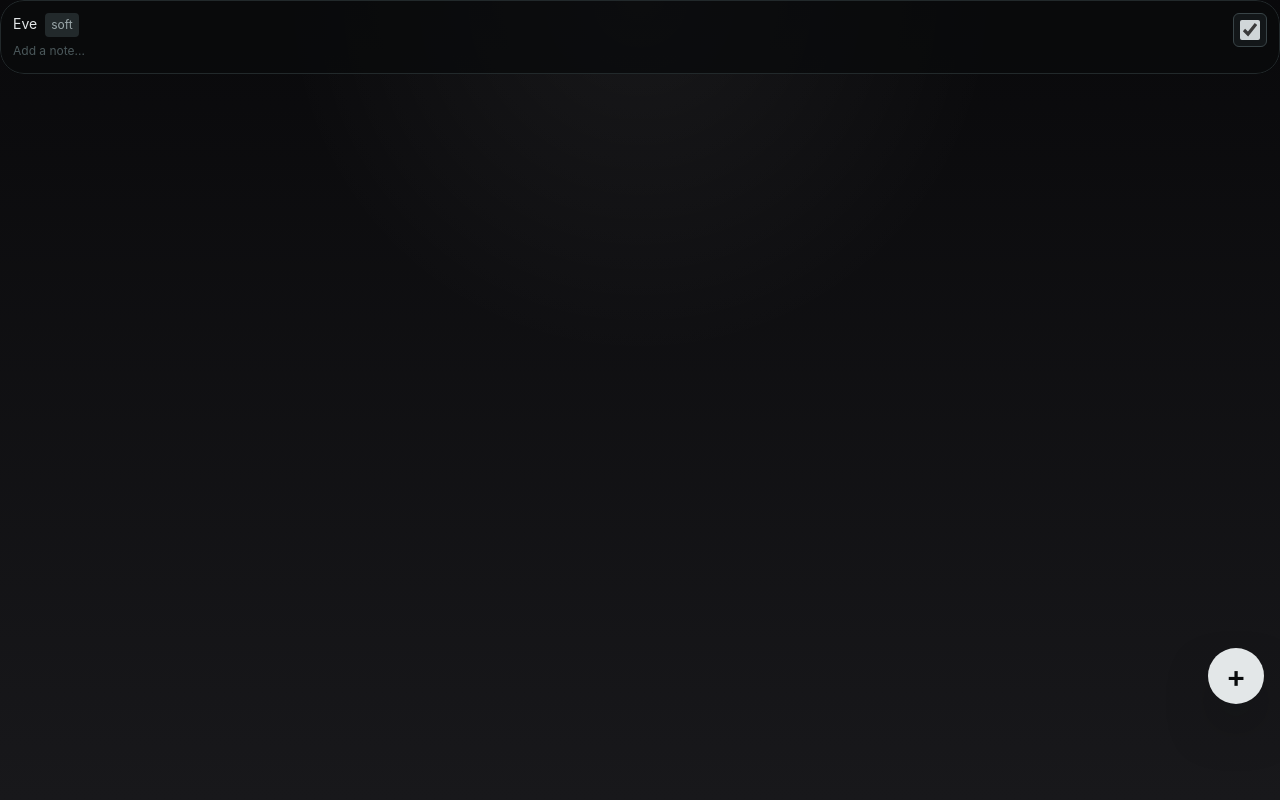
Test: TransactionsTab › clears invalid draft on escape
The image size is (1280, 800).
Click the button "Eve": (25, 24) [13,15,37,32]
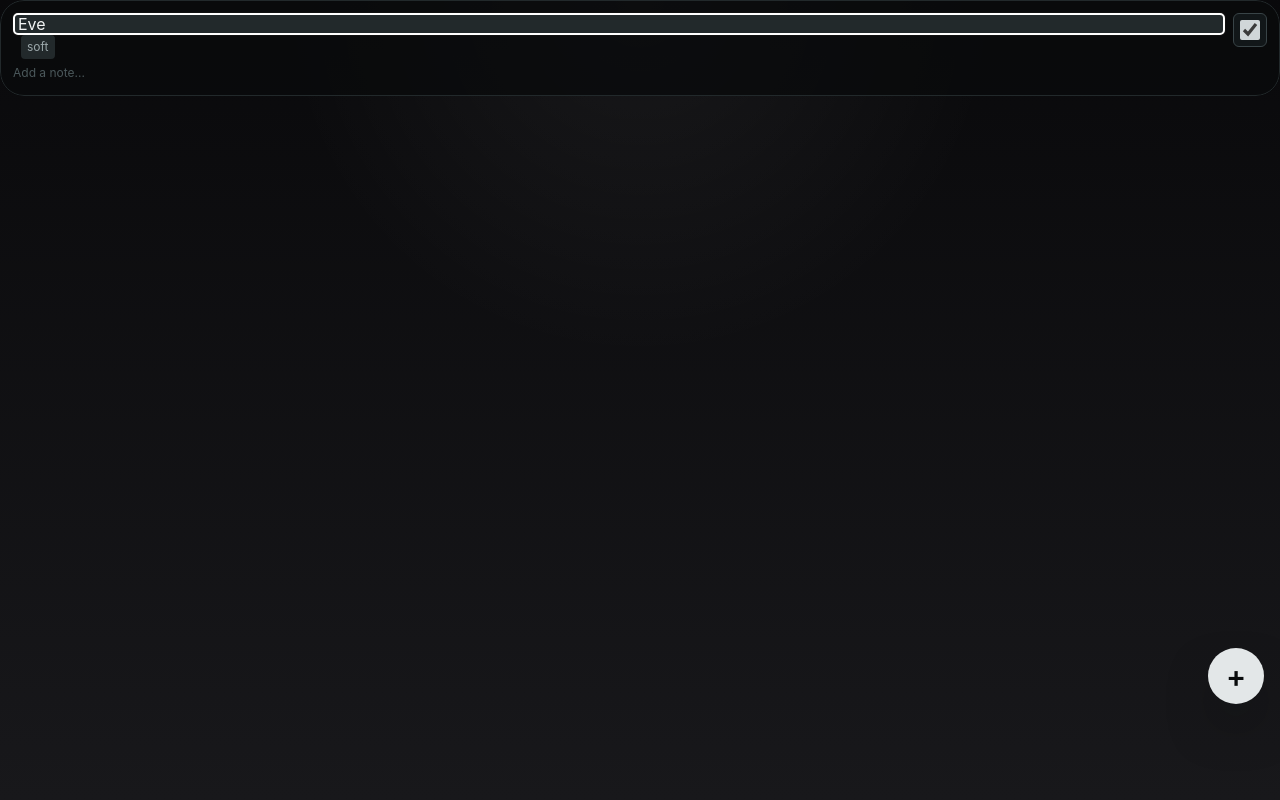
Replace the text in the field named "Edit formula" with "Invalid": (619, 24) [13,13,1225,35]
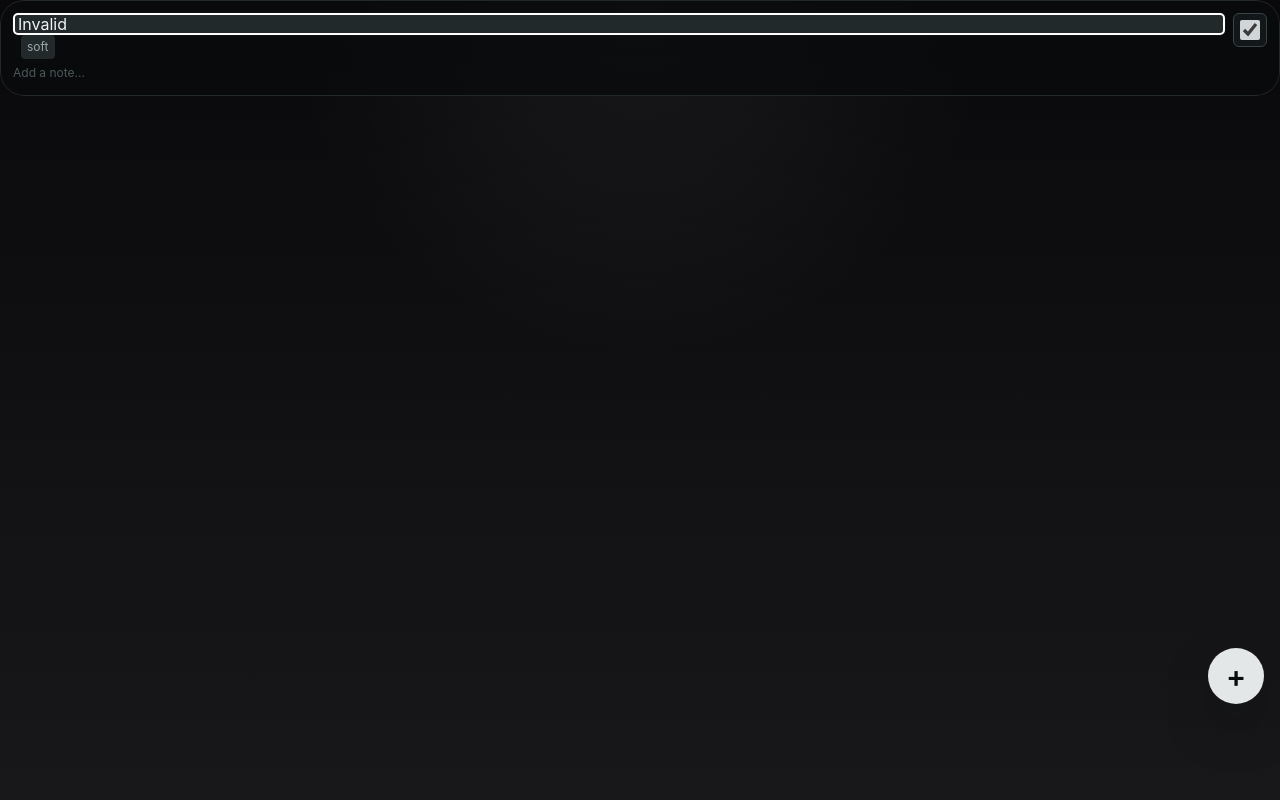
Press Tab
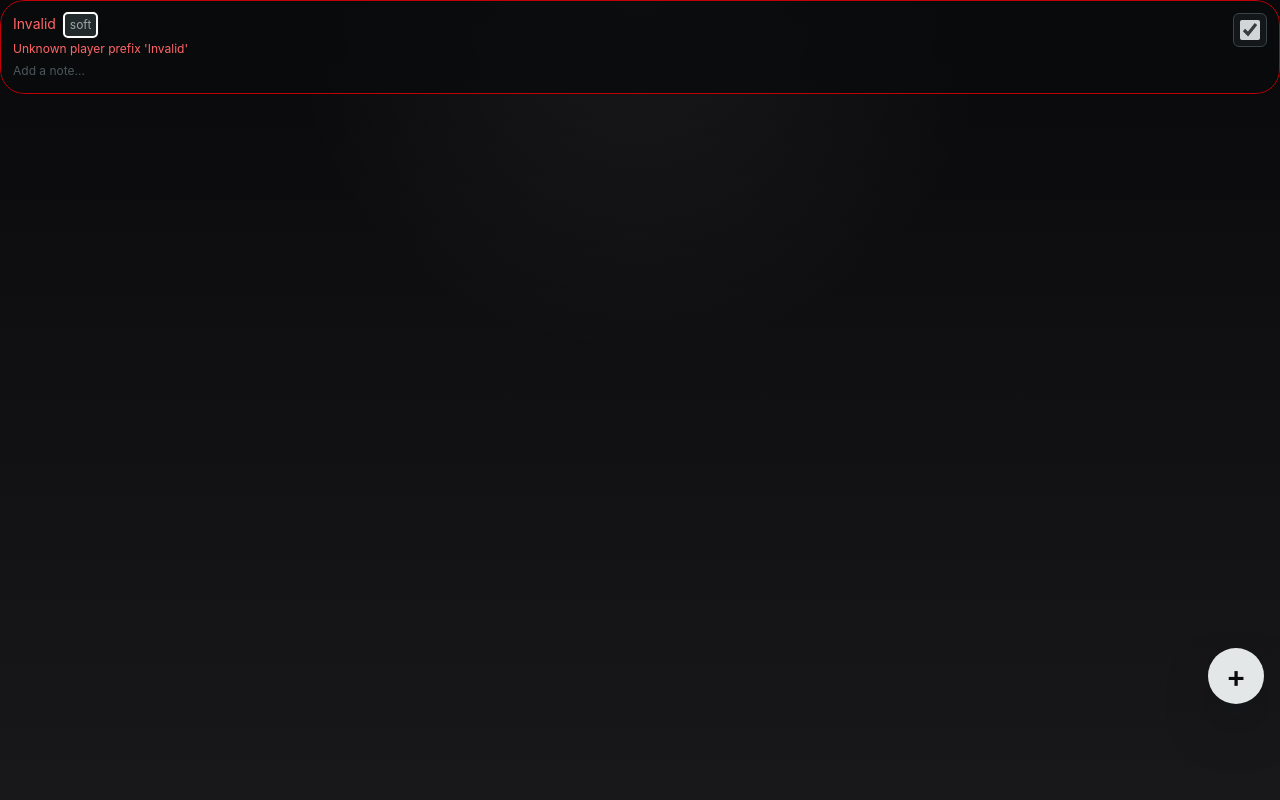
Check: the button "Invalid" is shown
Click the button "Invalid": (34, 24) [13,15,56,32]
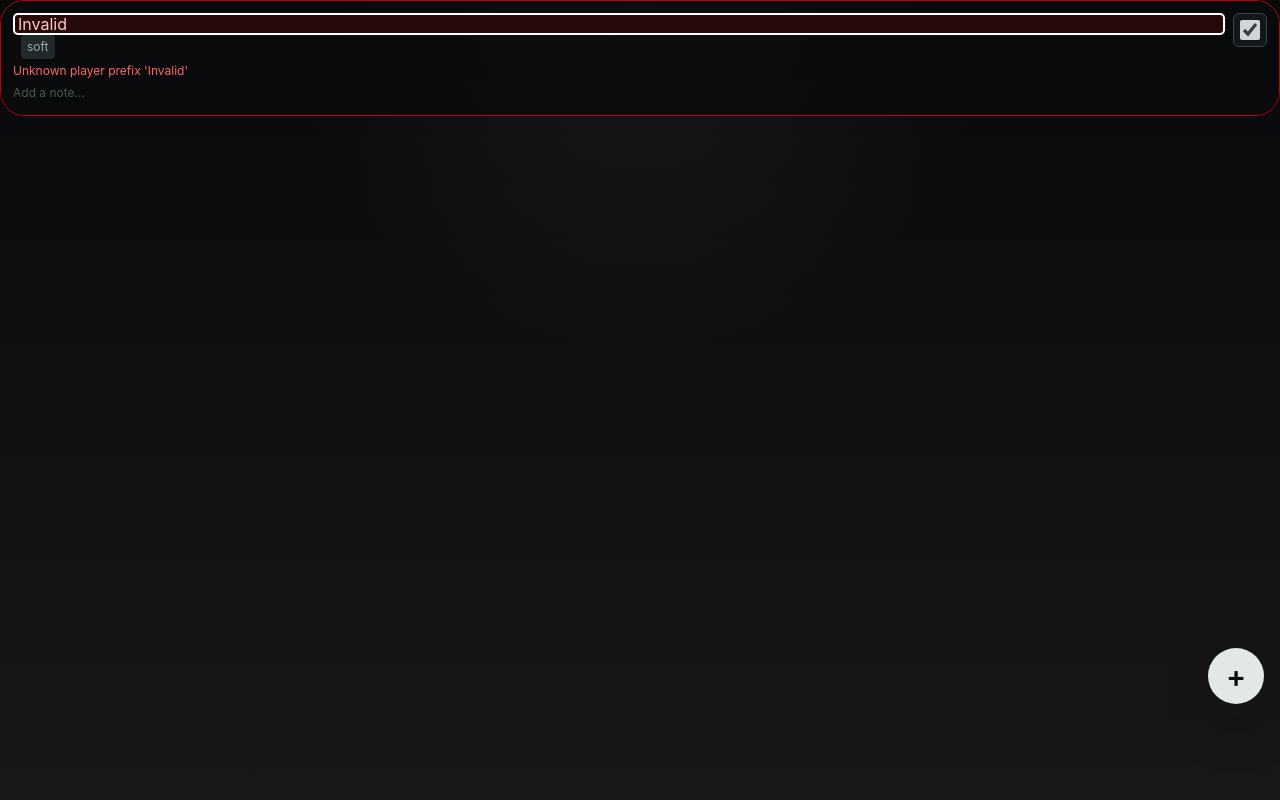
Check: the field named "Edit formula" is shown, box [13,13,1225,35]
Press Escape
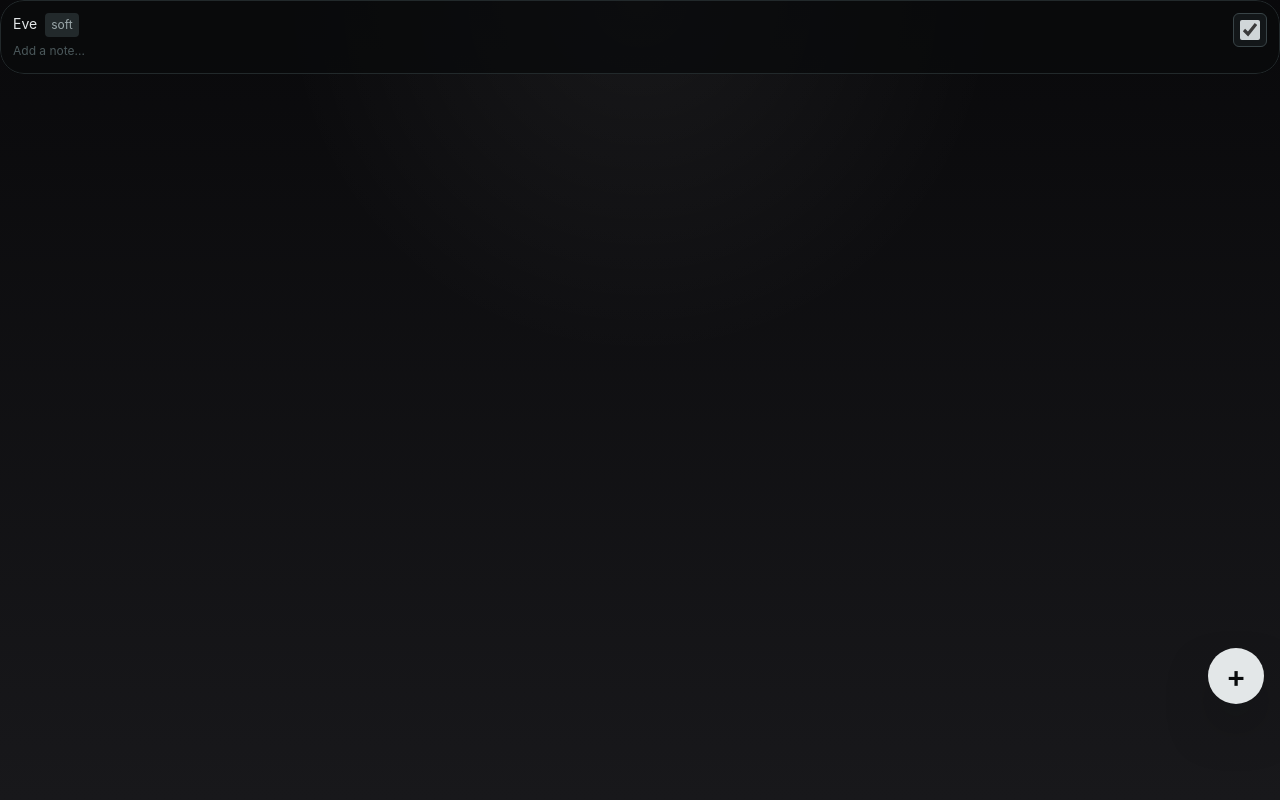
Check: the button "Eve" is shown, box [13,15,37,32]
Check: the text "Invalid" is gone
